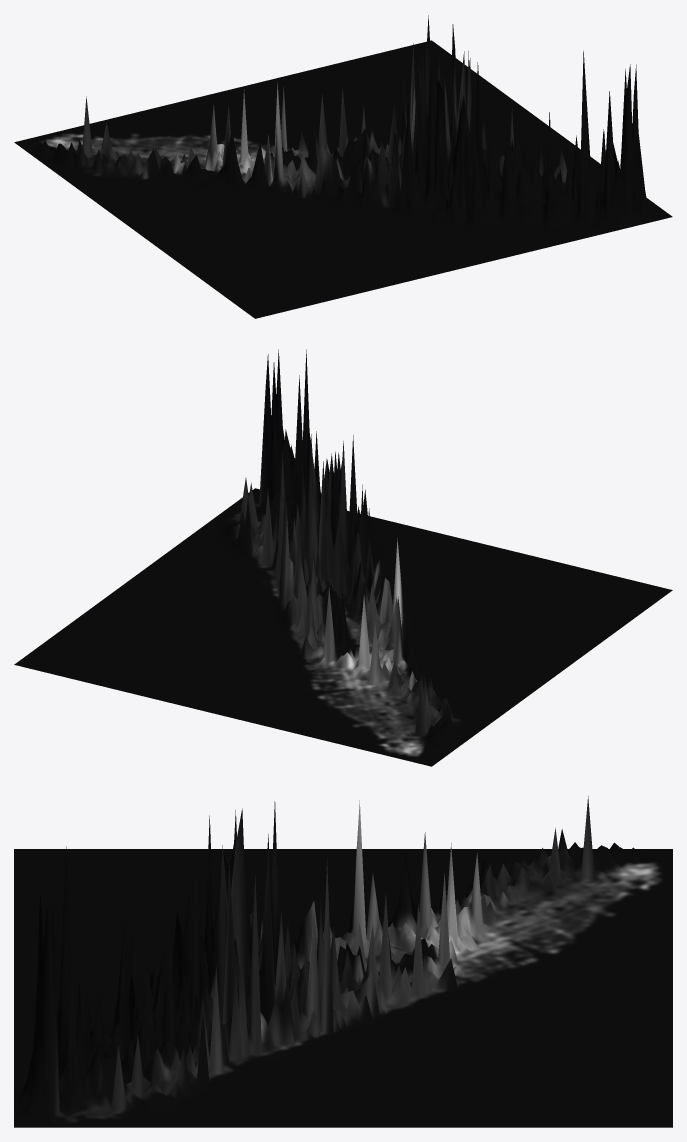
Rendered from manhattan.obj.
The picture shows the model from 3 angles, top to bottom: view 1: azimuth 30°, elevation 25°; view 2: azimuth 150°, elevation 25°; view 3: azimuth 270°, elevation 25°; orthographic projection. The views are drawn at different scales.
Visible parts, largest first — view 1: manhattan; view 2: manhattan; view 3: manhattan.
Boxes of the visible parts, <box> form: manhattan: <box>14,15,672,318</box>; manhattan: <box>14,349,672,766</box>; manhattan: <box>14,796,672,1127</box>.
Bounding box in the file's own units: 1 × 0.3937 × 1.
